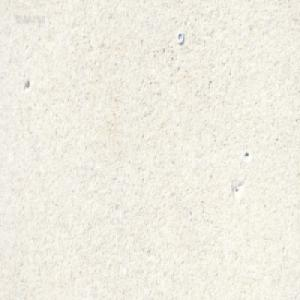Washer: (176, 30, 184, 44)
